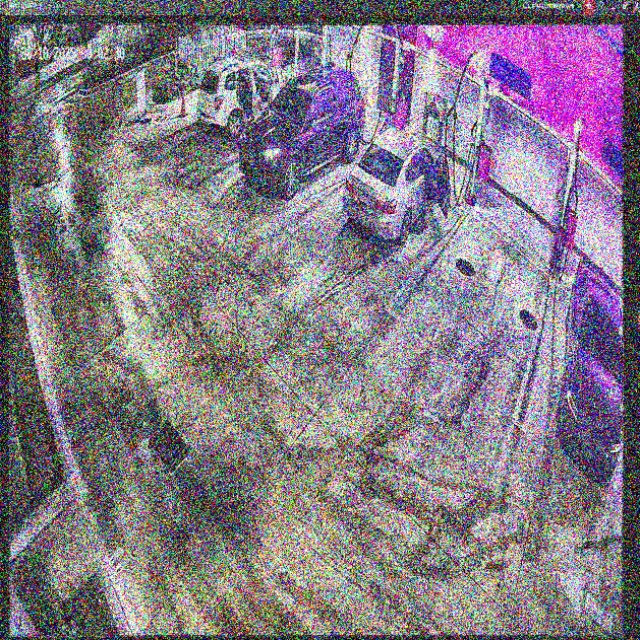Car: (240, 61, 363, 195), (342, 128, 449, 241)
